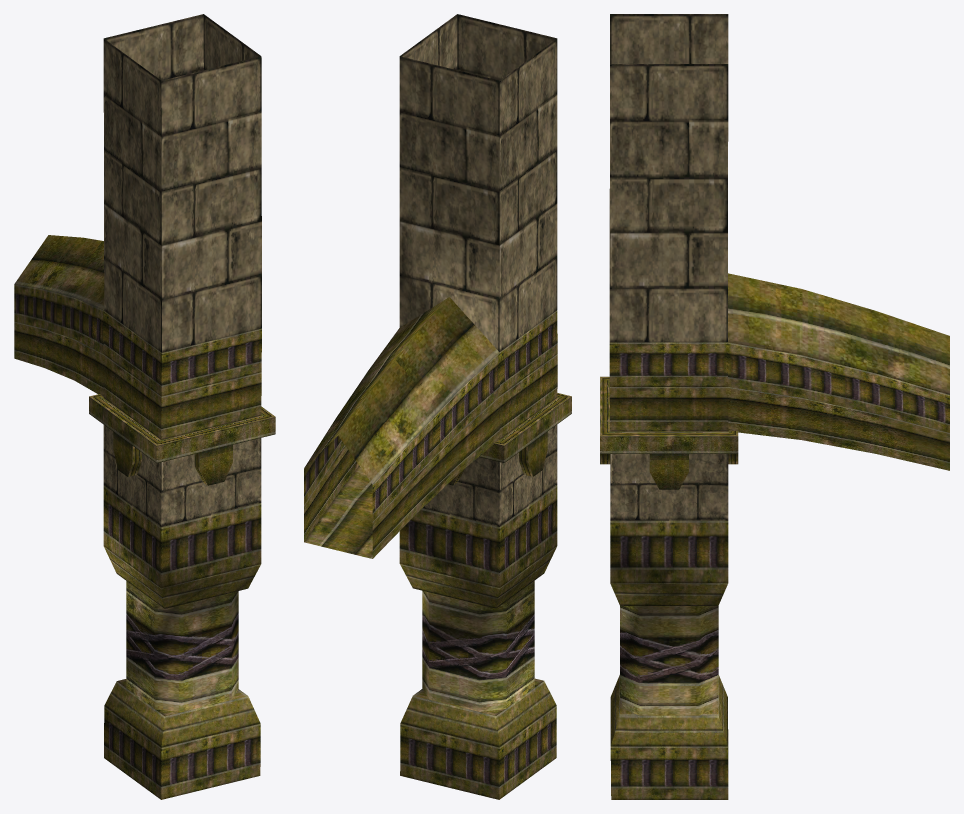
The model's file is OVERHILL_A_01_PILLAR_100.fbx.
3 renders of one model, left to right at view 1: azimuth 30°, elevation 25°; view 2: azimuth 150°, elevation 25°; view 3: azimuth 270°, elevation 25°, orthographic. The views are drawn at different scales.
Parts seen in each view (by area): view 1: OVERHILL_A_01_PILLAR_100; view 2: OVERHILL_A_01_PILLAR_100; view 3: OVERHILL_A_01_PILLAR_100.
Boxes of the visible parts, x1,y1,x2,y2 form: OVERHILL_A_01_PILLAR_100: (14, 14, 275, 799); OVERHILL_A_01_PILLAR_100: (304, 14, 571, 799); OVERHILL_A_01_PILLAR_100: (600, 14, 949, 799).
Bounding box in the file's own units: 19841 × 114570 × 49312.
5 materials, 5 textured.
